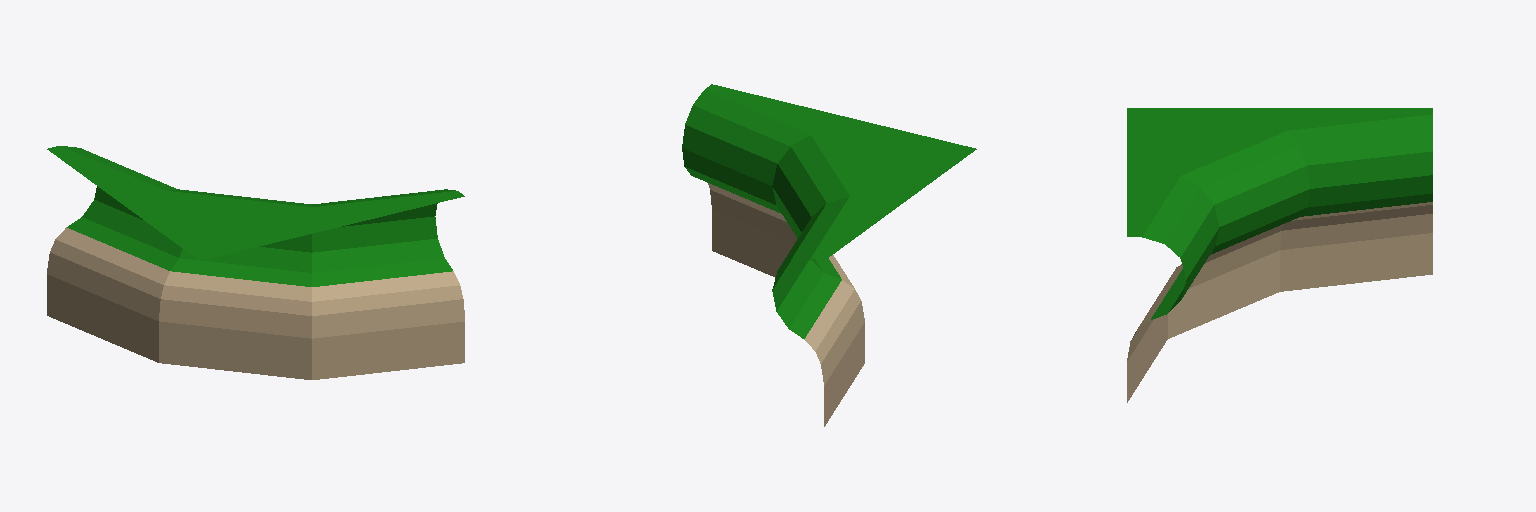
The model's file is Escarpment_Terrain_Corner_Inner_2x2_Top.obj.
The picture shows the model from 3 angles: view 1: azimuth 30°, elevation 25°; view 2: azimuth 150°, elevation 25°; view 3: azimuth 270°, elevation 25°; orthographic projection.
Parts seen in each view (by area): view 1: object1; view 2: object1; view 3: object1.
Boxes of the visible parts, x1,y1,x2,y2 form: object1: [47, 146, 464, 379]; object1: [682, 84, 976, 426]; object1: [1127, 108, 1432, 402].
Size of the model in its own units: 2 by 1.2 by 2.